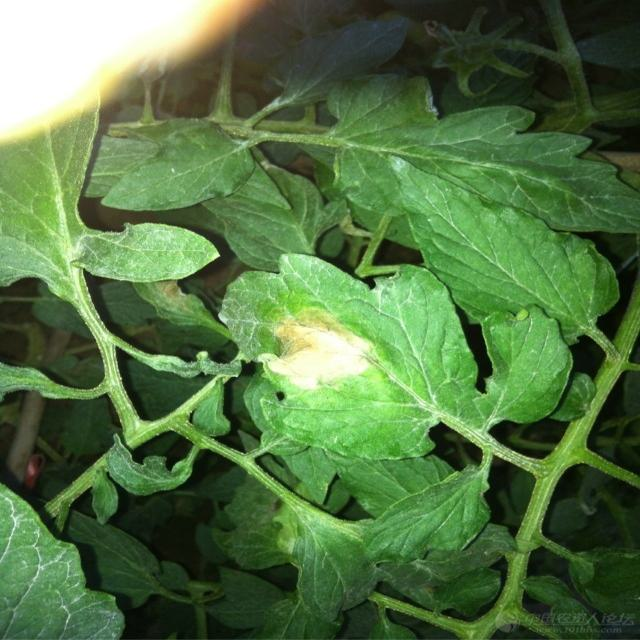Early_blight: (264, 301, 376, 393), (154, 279, 190, 305)
